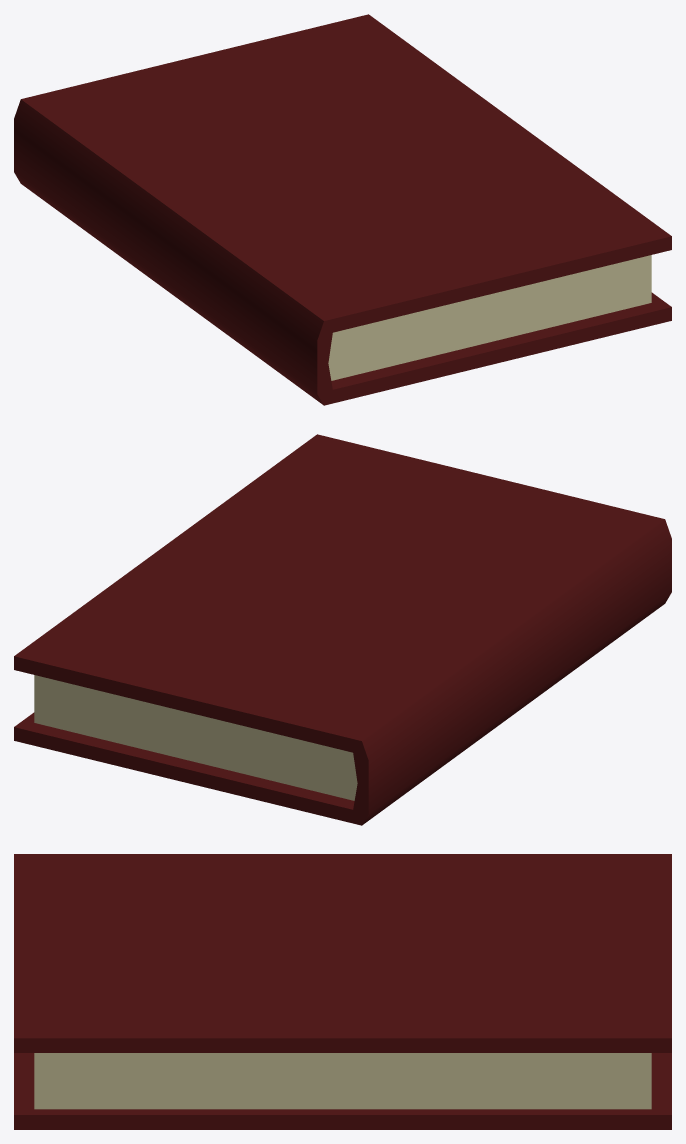
Rendered from Book.FBX.
3 views of the same model, one above another, from view 1: azimuth 30°, elevation 25°; view 2: azimuth 150°, elevation 25°; view 3: azimuth 270°, elevation 25° (orthographic). The views are drawn at different scales.
Parts seen in each view (by area): view 1: livro; view 2: livro; view 3: livro.
Boxes of the visible parts, <box> form: livro: <box>14,14,671,405</box>; livro: <box>14,434,671,825</box>; livro: <box>14,854,671,1129</box>.
Size of the model in its own units: 21.81 by 4.97 by 32.29.
